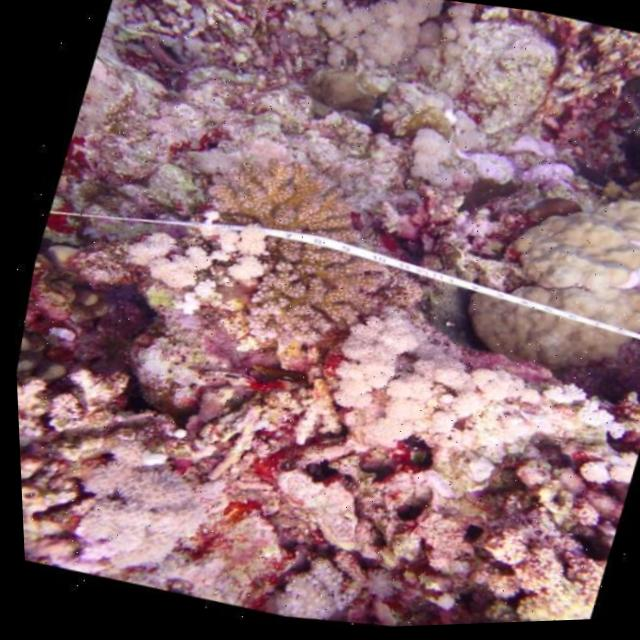Bleached Coral: (265, 281, 640, 551), (83, 0, 561, 153), (414, 145, 640, 426), (14, 386, 248, 612), (100, 164, 302, 372), (367, 88, 529, 235), (226, 524, 394, 634)
